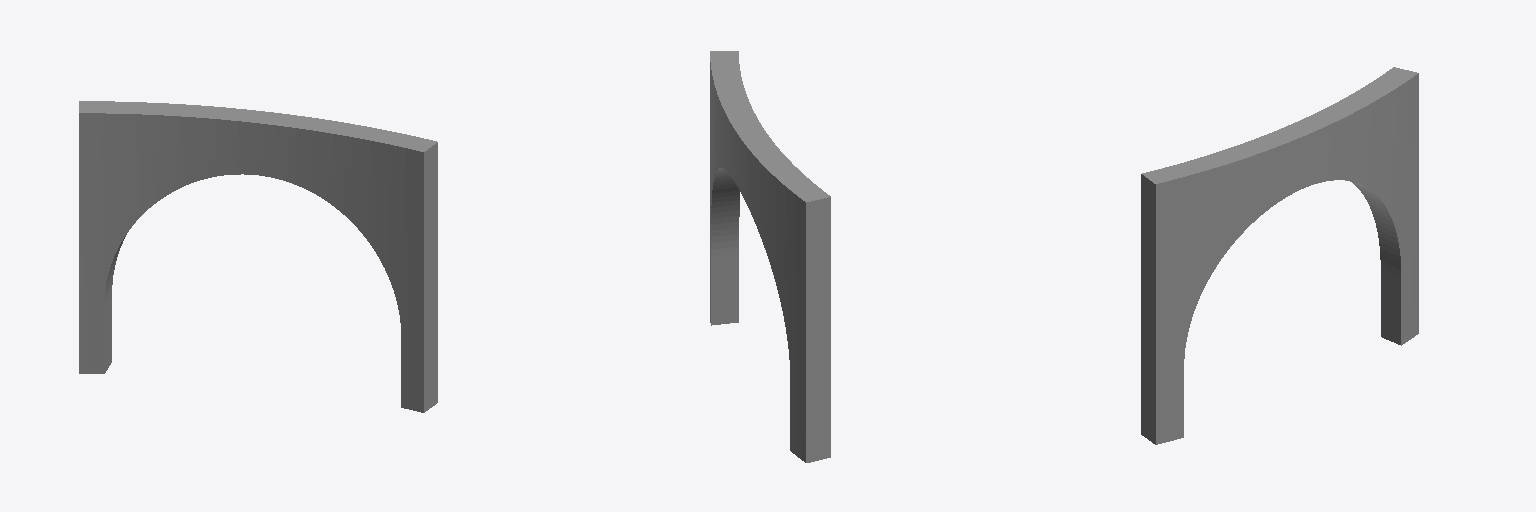
File: wall_door.obj
3 renders of one model, left to right at view 1: azimuth 30°, elevation 25°; view 2: azimuth 150°, elevation 25°; view 3: azimuth 270°, elevation 25°, orthographic.
Visible parts, largest first — view 1: MeshBody8.001; view 2: MeshBody8.001; view 3: MeshBody8.001.
Boxes of the visible parts, x1=… form: MeshBody8.001: x1=79, y1=101, x2=437, y2=412; MeshBody8.001: x1=710, y1=51, x2=830, y2=462; MeshBody8.001: x1=1141, y1=67, x2=1418, y2=444.
Bounding box in the file's own units: 9.65 × 10 × 9.65.